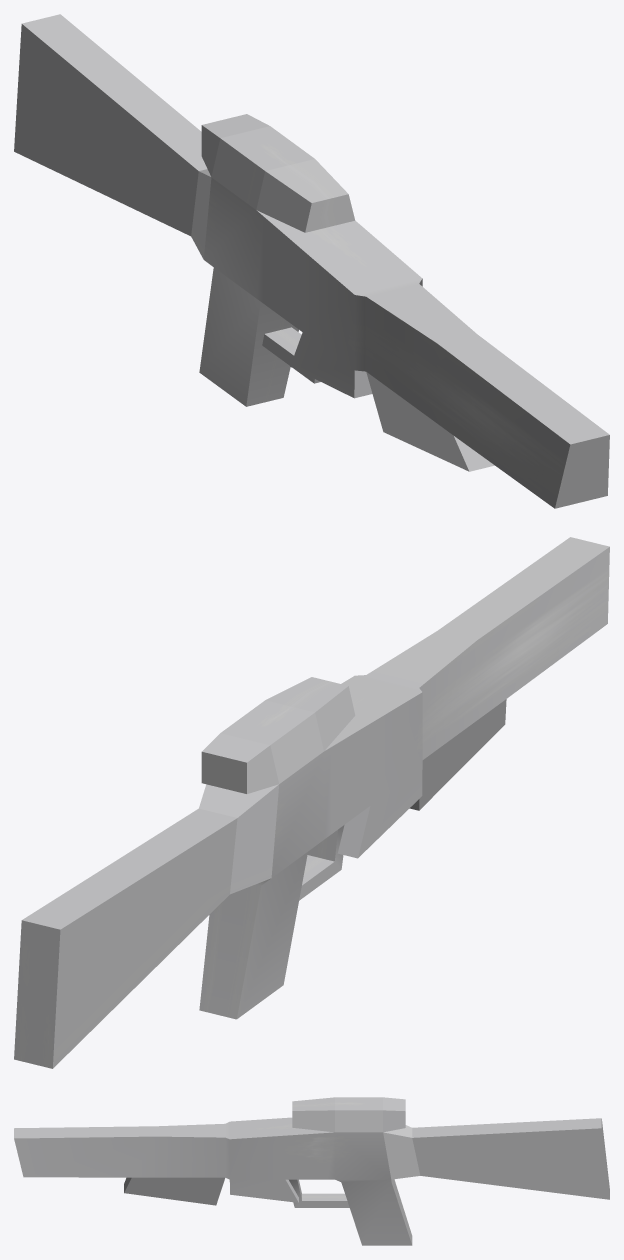
The model's file is rifle.fbx.
The picture shows the model from 3 angles, top to bottom: view 1: azimuth 30°, elevation 25°; view 2: azimuth 150°, elevation 25°; view 3: azimuth 270°, elevation 25°; orthographic projection. The views are drawn at different scales.
Parts seen in each view (by area): view 1: rifle_mesh; view 2: rifle_mesh; view 3: rifle_mesh.
Part boxes in pixels (<box>): rifle_mesh: <box>14,14,609,508</box>; rifle_mesh: <box>14,537,609,1068</box>; rifle_mesh: <box>14,1097,609,1245</box>.
Size of the model in its own units: 0.9072 by 3.27 by 12.91.
Materials: 1 (1 with a texture image).
